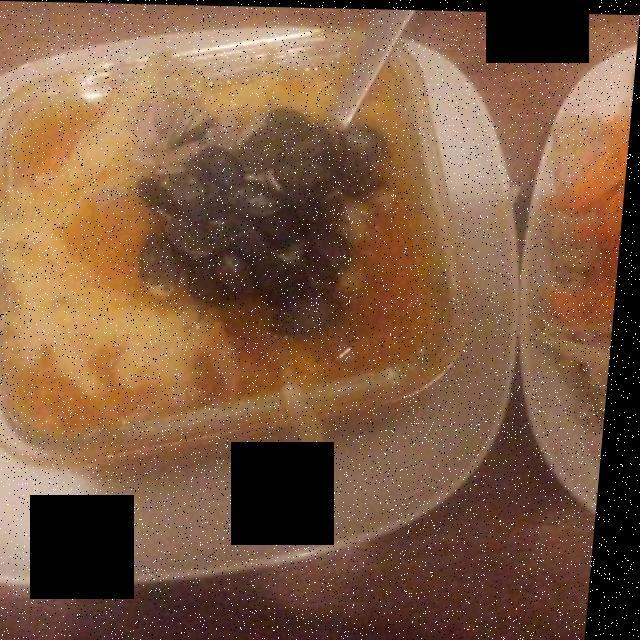cheese: (0, 64, 216, 396)
pumpkin-seeds: (140, 127, 369, 341)
soup: (23, 37, 460, 476)
sunflower-seeds: (135, 87, 259, 195)
